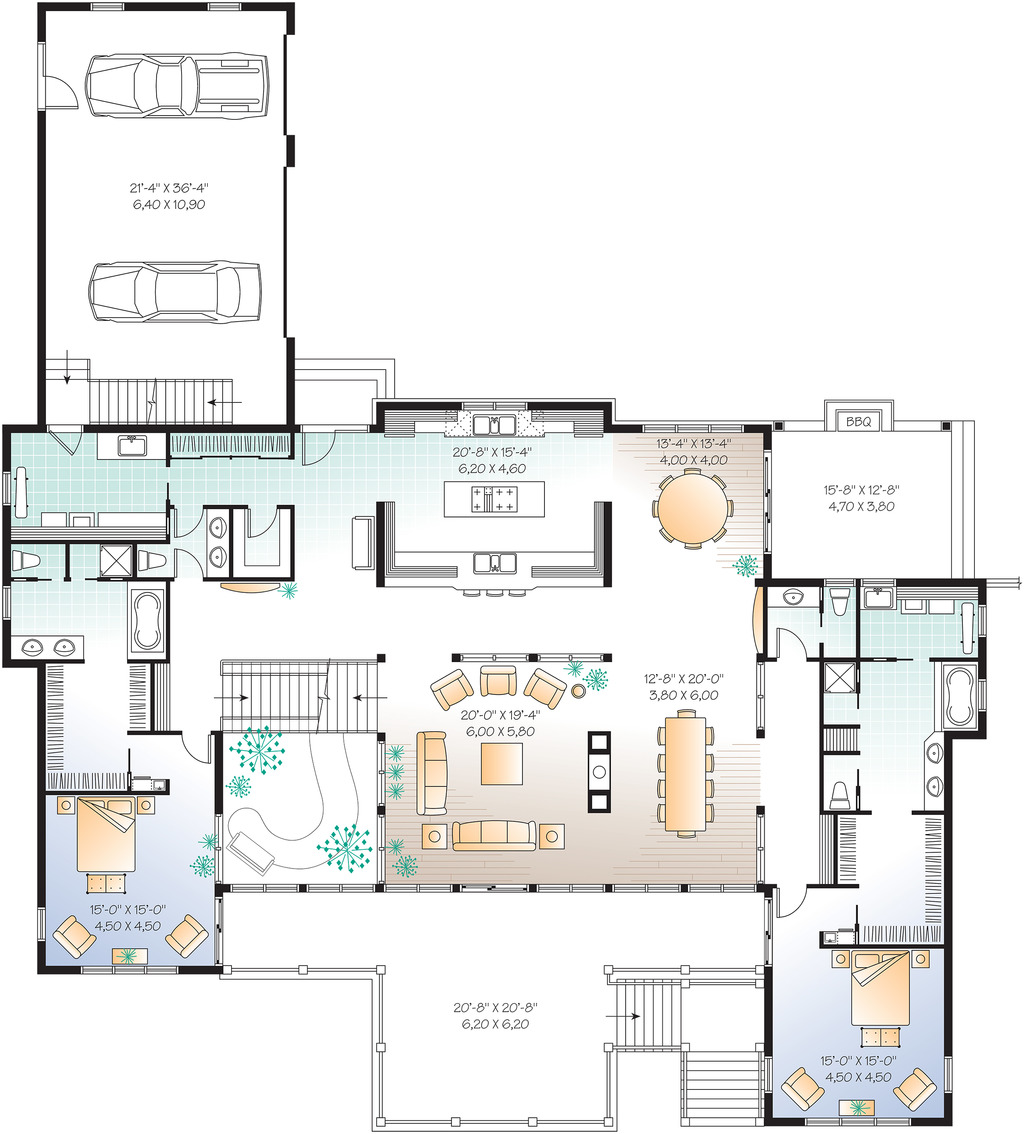bed: (71, 791, 142, 877), (845, 949, 915, 1025)
dining_table: (653, 708, 716, 846)
door: (295, 420, 336, 470), (40, 71, 81, 117), (776, 623, 811, 665), (168, 503, 206, 540), (171, 546, 205, 581), (244, 506, 279, 540), (775, 883, 809, 918), (177, 729, 213, 761)
large_sink: (824, 585, 852, 626), (6, 546, 40, 578), (830, 773, 857, 811)
large_sofa: (441, 814, 539, 855), (412, 725, 453, 819)
round_table: (650, 462, 741, 556), (165, 912, 207, 958)
small_sink: (4, 631, 83, 667), (923, 740, 951, 805), (765, 581, 821, 611)
small_sofa: (891, 1066, 941, 1112), (519, 665, 569, 706), (780, 1066, 824, 1111), (54, 914, 97, 960), (162, 914, 205, 956), (476, 661, 521, 701), (429, 668, 470, 707)
stairs: (603, 971, 770, 1129), (44, 350, 235, 430), (215, 653, 386, 740)
tub: (939, 666, 981, 734), (130, 582, 168, 656)
twin_sink: (471, 548, 519, 577), (469, 411, 519, 438)
windows: (638, 414, 746, 435)
